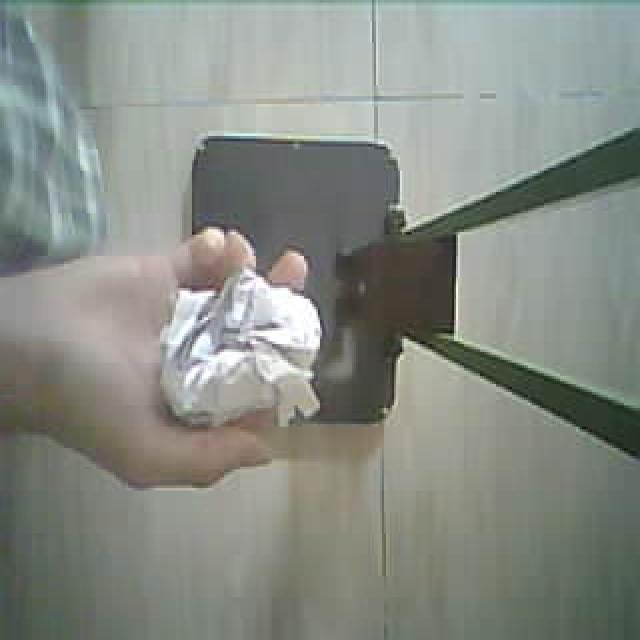Paper: (66, 142, 404, 508)
